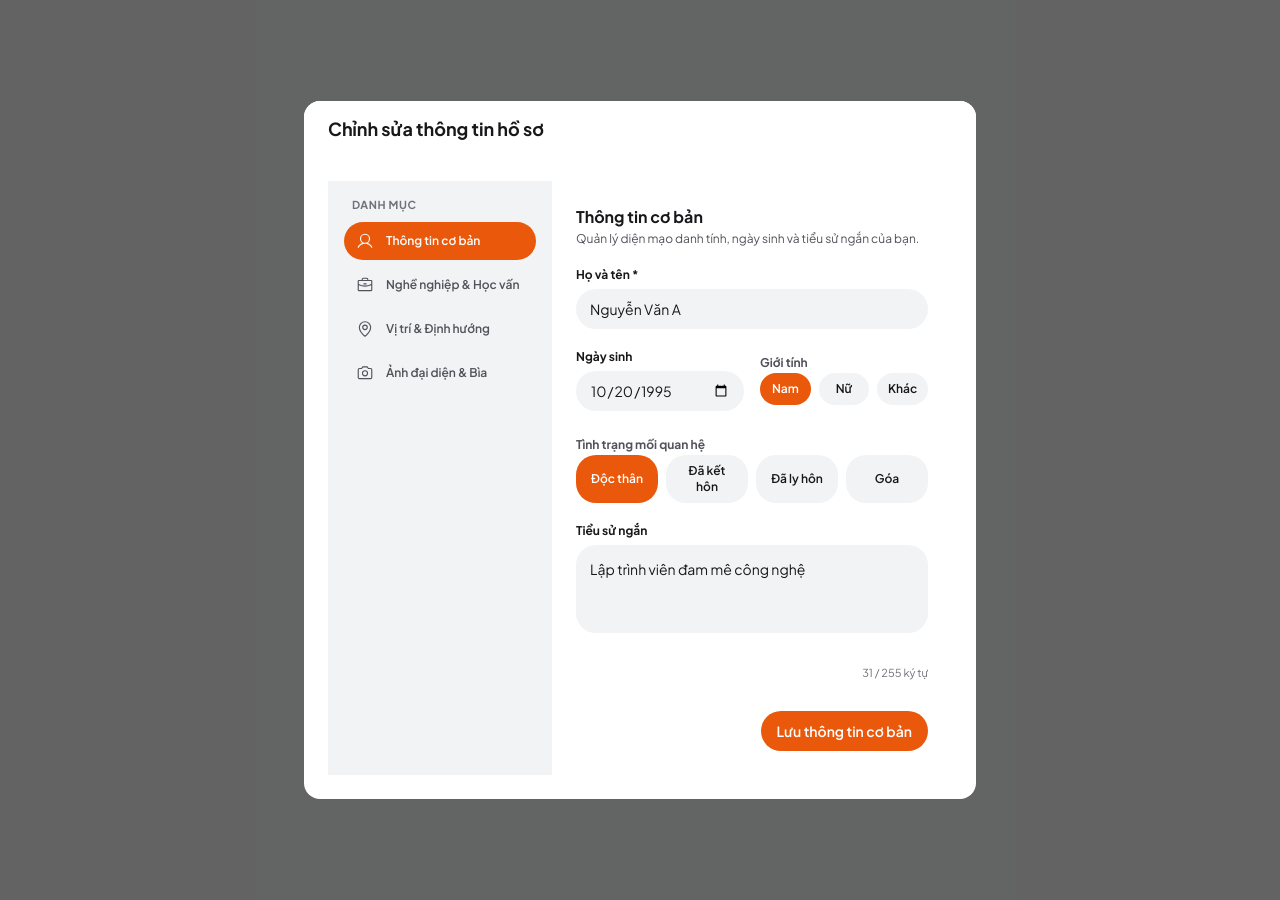
PR #26: Profile Multi-Flow UX Components › ProfileEditModal Orchestrator › renders modal when open and allows navigating through all 4 flows
Expected: the heading "Chỉnh sửa thông tin hồ sơ" is shown, [328,117,544,141]
Expected: the button "Thông tin cơ bản" is shown, [344,222,536,260]
Navigate to Career Flow
Click the button "Nghề nghiệp & Học vấn". click: coordinates (440, 285)
box: [344,266,536,304]
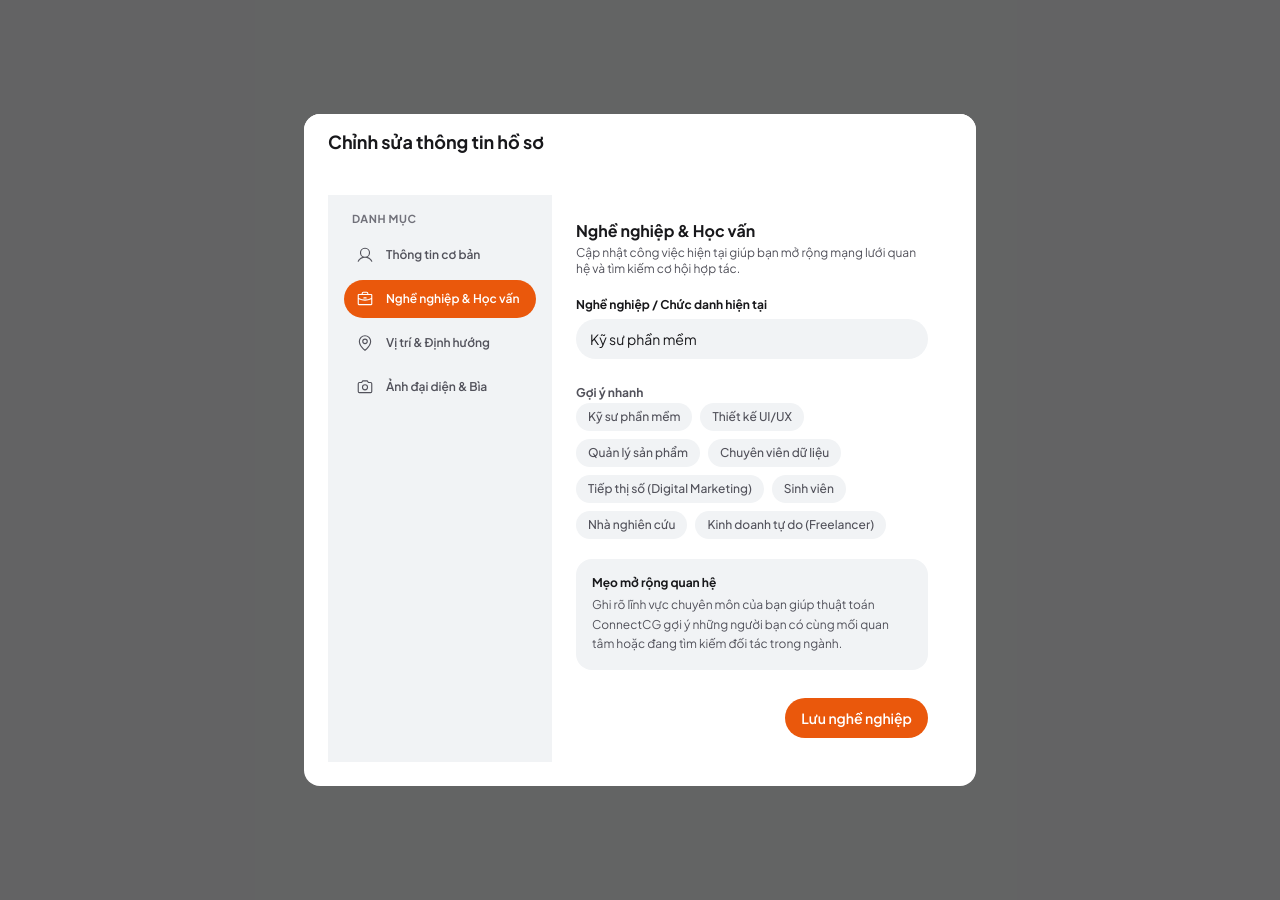
Result: the heading "Mẹo mở rộng quan hệ" is shown at [592,575,716,590]
Navigate to Location Flow
Click the button "Vị trí & Định hướng". click: coordinates (440, 343)
box: [344,324,536,362]
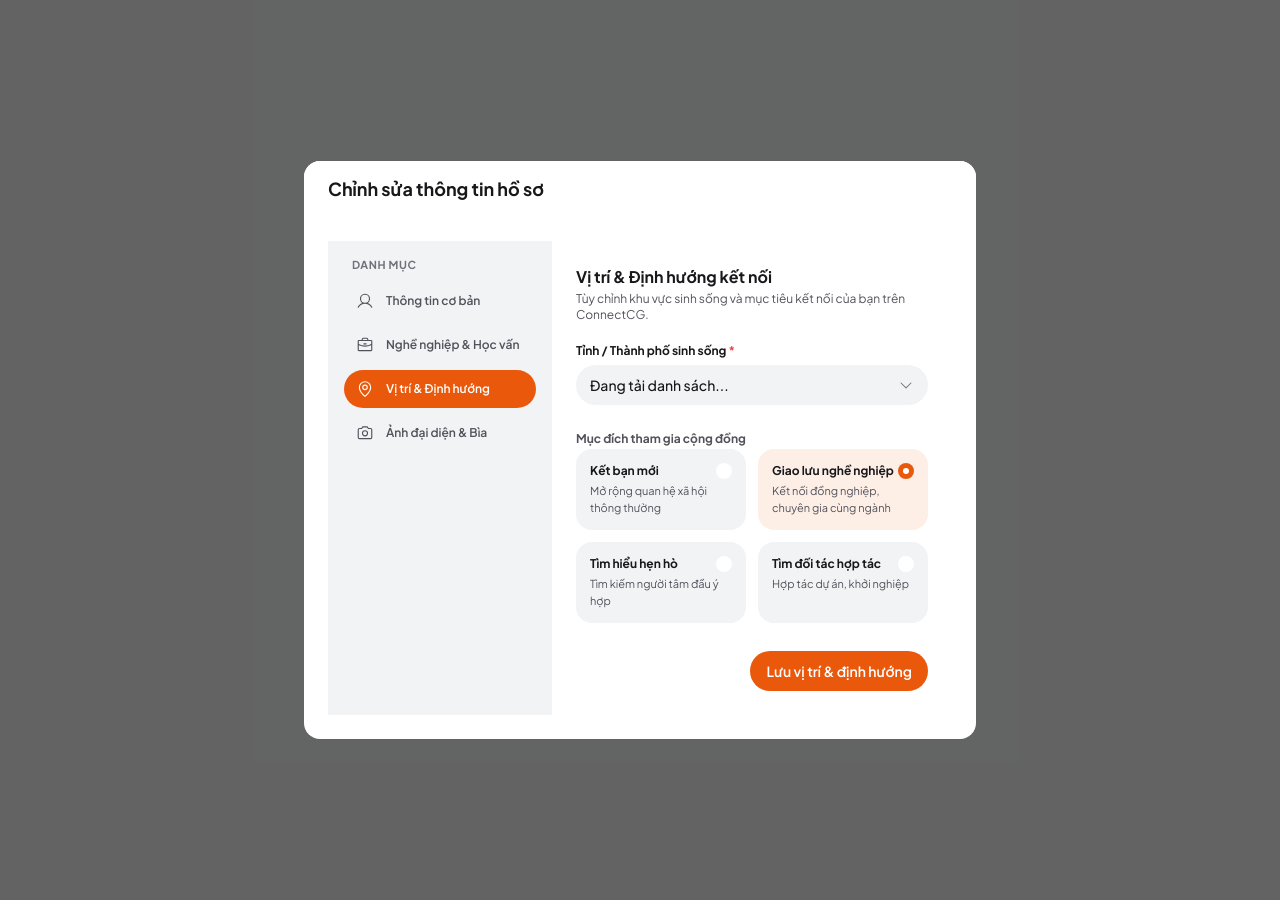
Result: the text "Mục đích tham gia cộng đồng" is shown at [576,431,746,446]
Navigate to Media Flow
Click the button "Ảnh đại diện & Bìa". click: coordinates (440, 433)
box: [344,414,536,452]
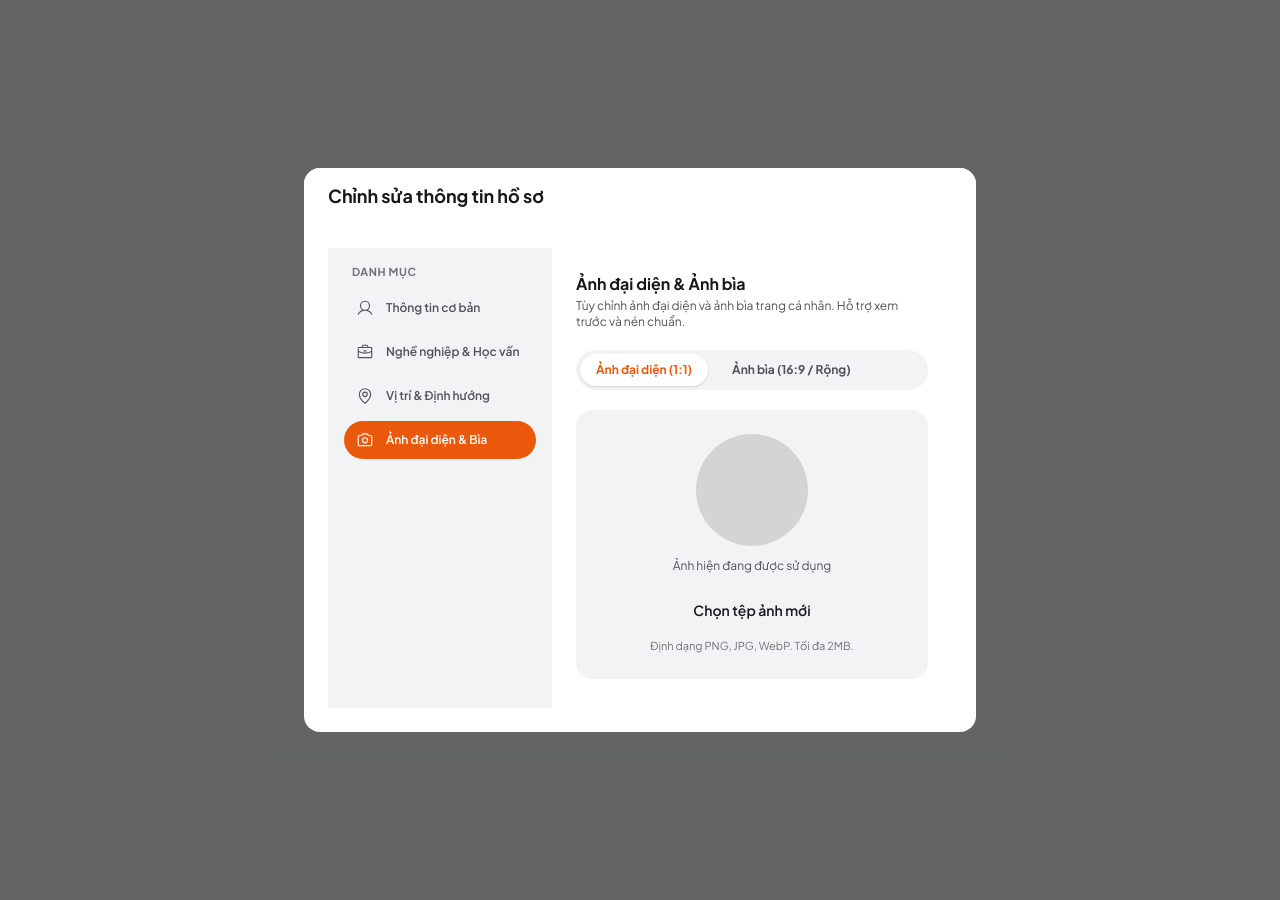
Result: the button "Ảnh đại diện (1:1)" is shown at [580,354,708,386]
